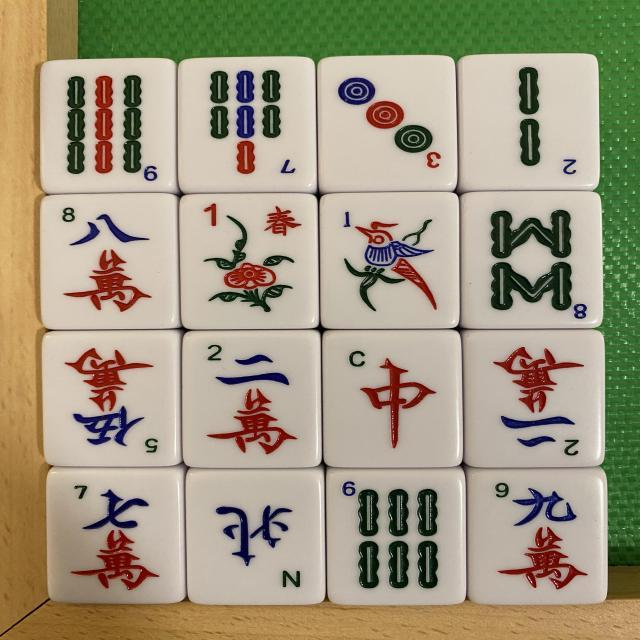bs1: (181, 195, 316, 326)
hdr: (322, 336, 460, 470)
hwn: (184, 470, 324, 608)
sb1: (321, 198, 456, 326)
sb2: (462, 56, 602, 192)
sb6: (329, 469, 467, 607)
sb7: (180, 60, 306, 188)
sb8: (464, 198, 600, 326)
sb9: (39, 62, 174, 194)
sc2: (183, 328, 319, 467), (468, 332, 604, 465)
sc5: (44, 330, 181, 470)
sc7: (48, 469, 186, 608)
sc8: (45, 194, 179, 328)
sc9: (470, 468, 608, 604)
sd3: (324, 56, 458, 192)
